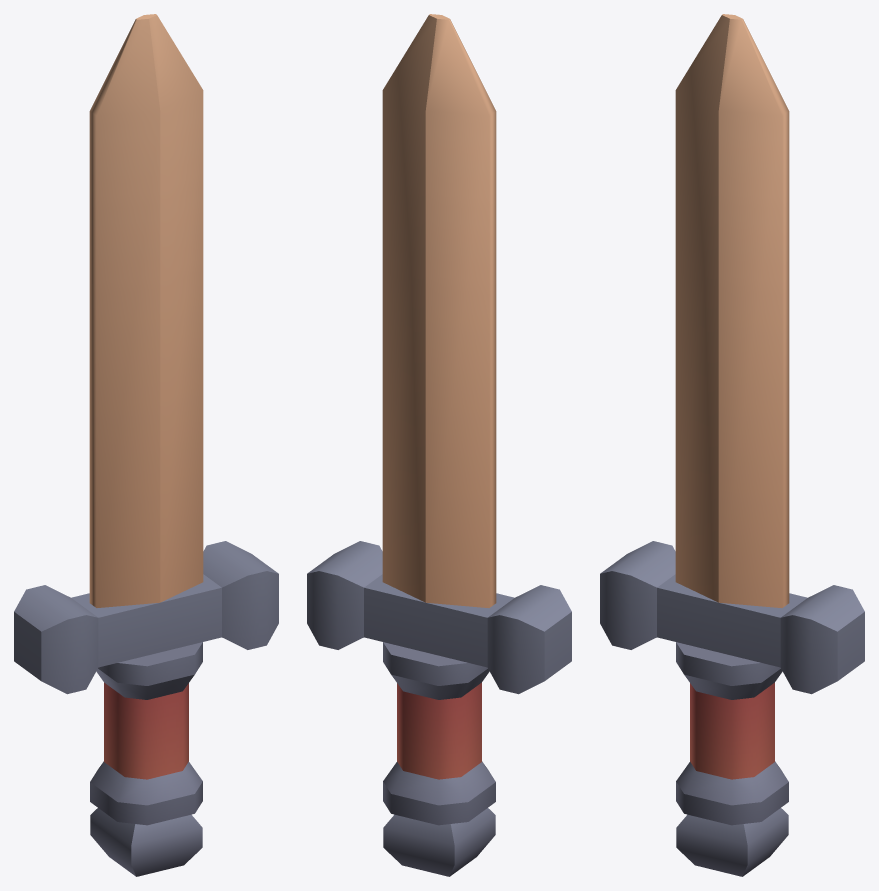
The model's file is sword-b.fbx.
The picture shows the model from 3 angles, left to right: view 1: azimuth 30°, elevation 25°; view 2: azimuth 150°, elevation 25°; view 3: azimuth 330°, elevation 25°; orthographic projection.
Visible parts, largest first — view 1: sword-b; view 2: sword-b; view 3: sword-b.
Boxes of the visible parts, <box> form: sword-b: <box>14,14,278,876</box>; sword-b: <box>307,14,571,876</box>; sword-b: <box>600,14,864,876</box>.
Bounding box in the file's own units: 125 × 425 × 45.
Materials: 1 (1 with a texture image).
